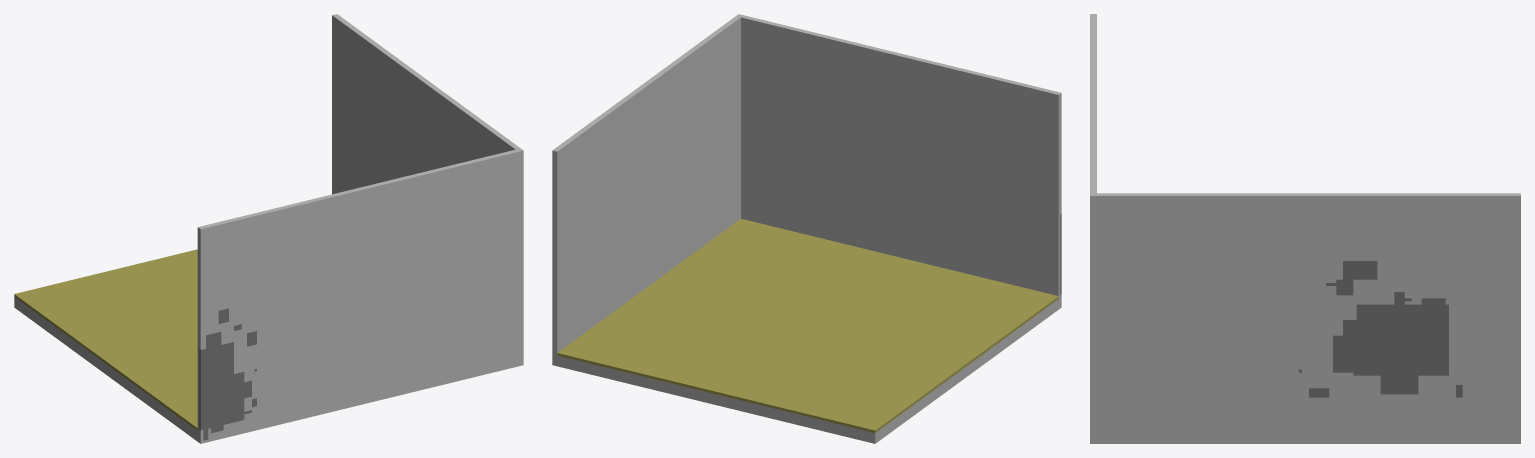
The model's file is 2x2 first (1)-3.obj.
3 views of the same model, side by side, from view 1: azimuth 30°, elevation 25°; view 2: azimuth 150°, elevation 25°; view 3: azimuth 270°, elevation 25° (orthographic). The views are drawn at different scales.
Visible parts, largest first — view 1: 2x2 first (1)-3; view 2: 2x2 first (1)-3; view 3: 2x2 first (1)-3.
Part boxes in pixels (x1=…): 2x2 first (1)-3: x1=14, y1=14, x2=523, y2=443; 2x2 first (1)-3: x1=552, y1=14, x2=1061, y2=443; 2x2 first (1)-3: x1=1090, y1=14, x2=1520, y2=443.
Bounding box in the file's own units: 126 × 80 × 126.
1 material, 1 textured.
